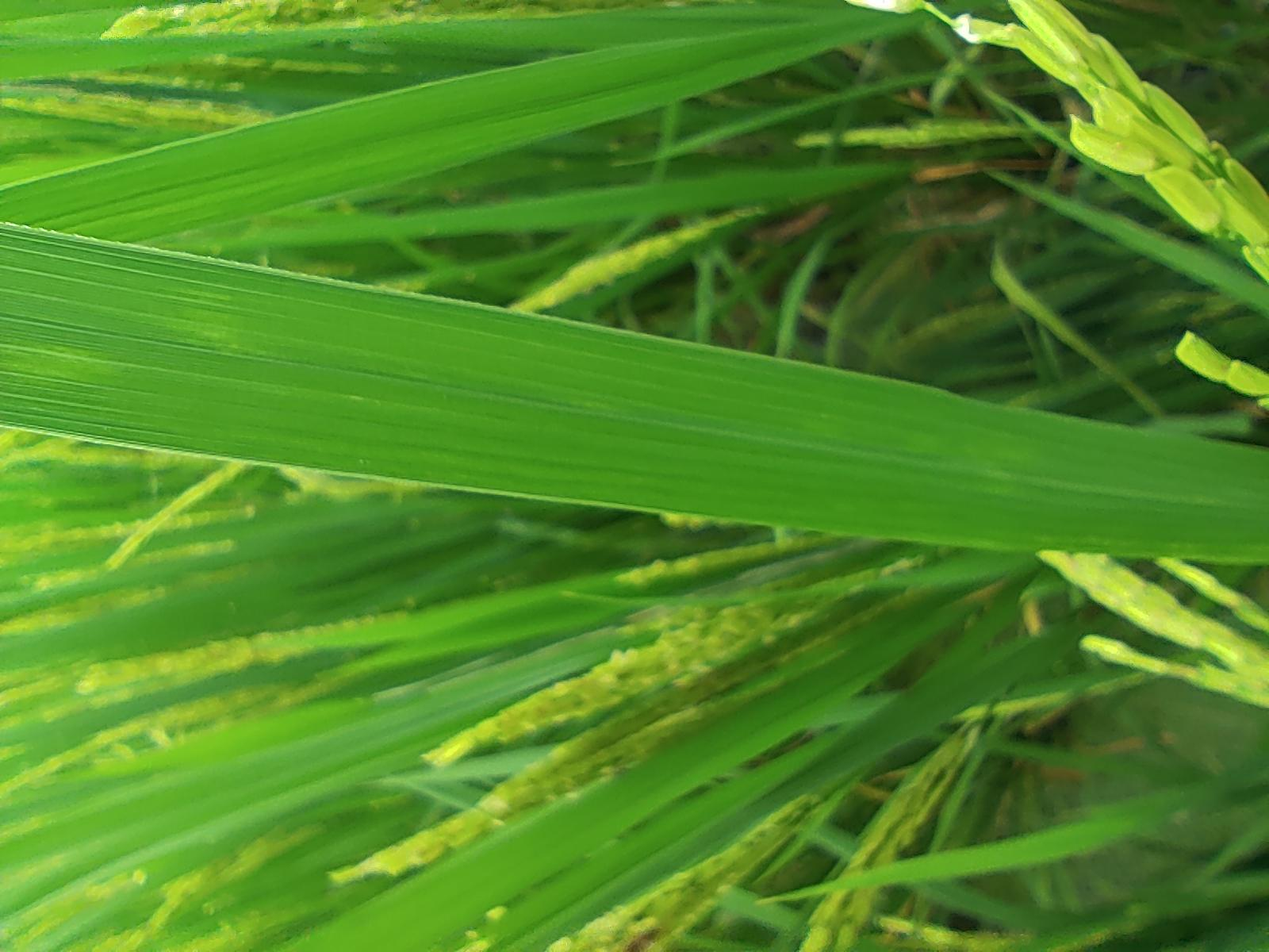Healthy: (518, 0, 970, 951)
